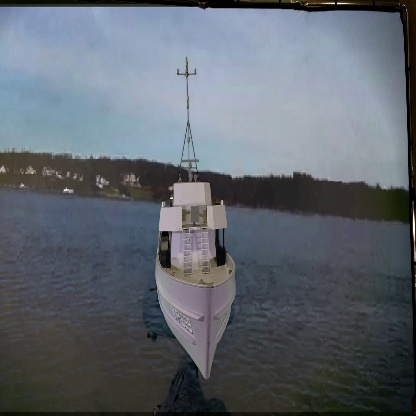YP689: (153, 55, 238, 381)
